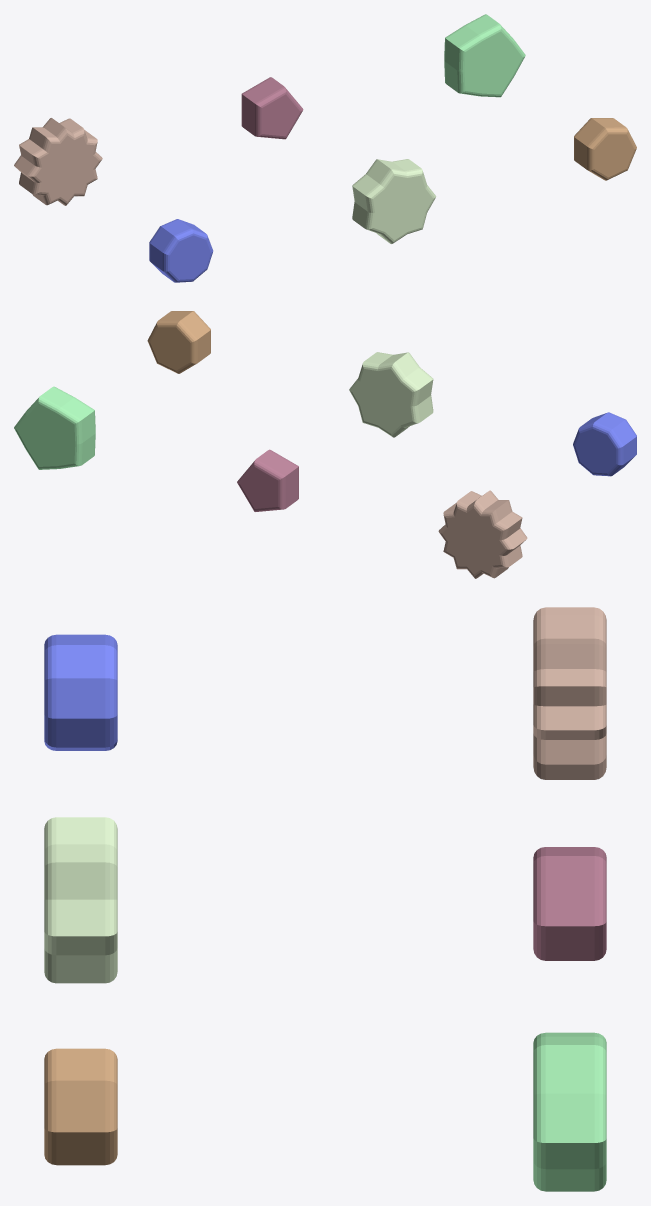
Rendered from Standard Bump Mapped_Linear_2023-07-23-20-47-45.gltf.
3 renders of one model, top to bottom at view 1: azimuth 30°, elevation 25°; view 2: azimuth 150°, elevation 25°; view 3: azimuth 270°, elevation 25°, orthographic. The views are drawn at different scales.
Bounding box in the file's own units: 470 × 70.83 × 230.
